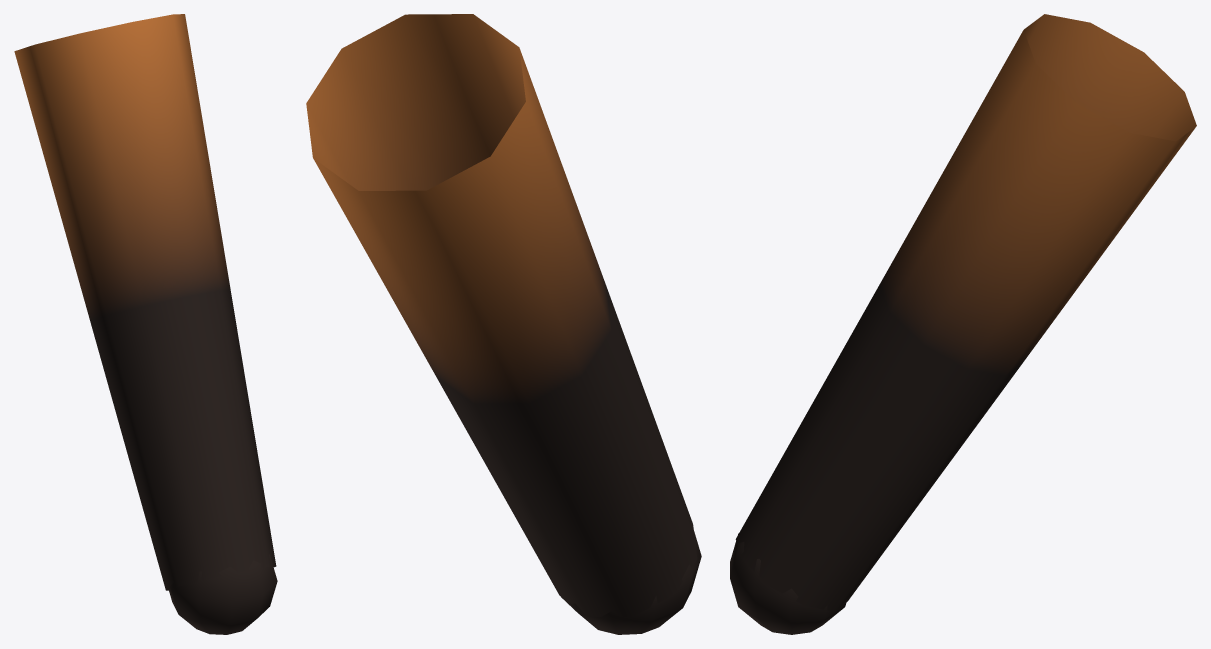
The model's file is Kitsune_Limb2L.fbx.
3 renders of one model, left to right at view 1: azimuth 30°, elevation 25°; view 2: azimuth 150°, elevation 25°; view 3: azimuth 270°, elevation 25°, orthographic. The views are drawn at different scales.
Parts seen in each view (by area): view 1: Kitsune_Limb2L; view 2: Kitsune_Limb2L; view 3: Kitsune_Limb2L.
Boxes of the visible parts, x1=… form: Kitsune_Limb2L: x1=14, y1=14, x2=277, y2=634; Kitsune_Limb2L: x1=306, y1=14, x2=701, y2=634; Kitsune_Limb2L: x1=730, y1=14, x2=1196, y2=634.
Bounding box in the file's own units: 1.65 × 5.67 × 3.96.
